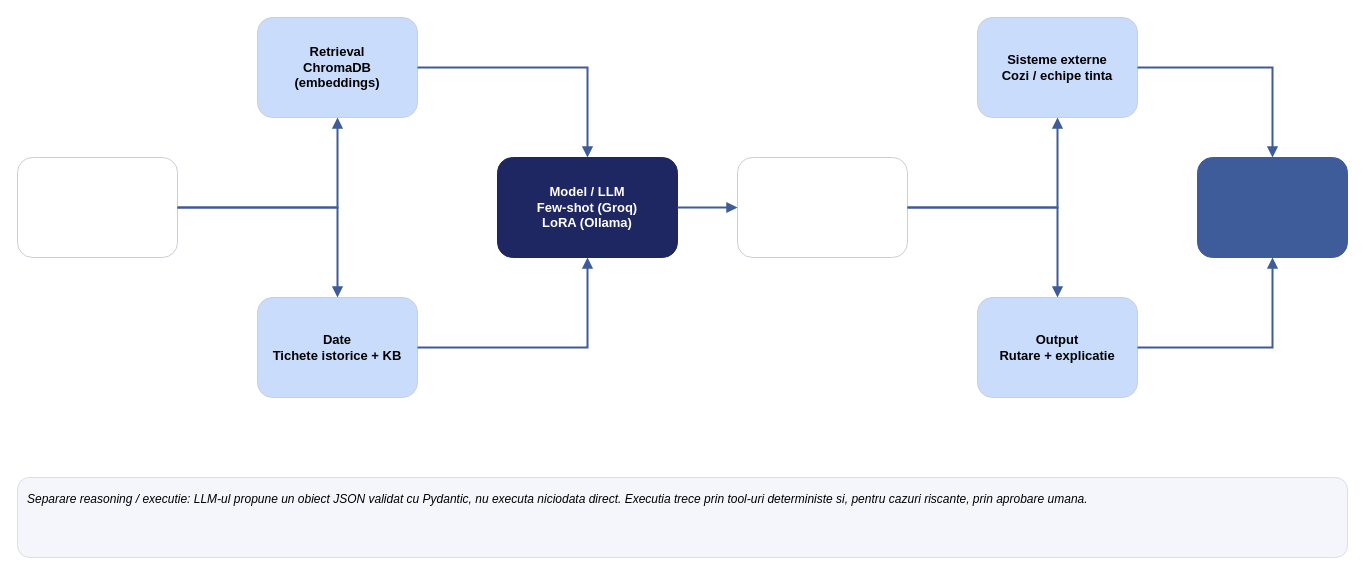
Some shapes in this 1365 by 575 pixel diagram are drawn without their labels. Each missing label, with the centre of its shape:
"Backend FastAPI + Pydantic" goes at [822,207].
"Input Tichet (UI Streamlit)" goes at [97,207].
"Observabilitate Arize Phoenix (audit trail)" goes at [1272,207].
